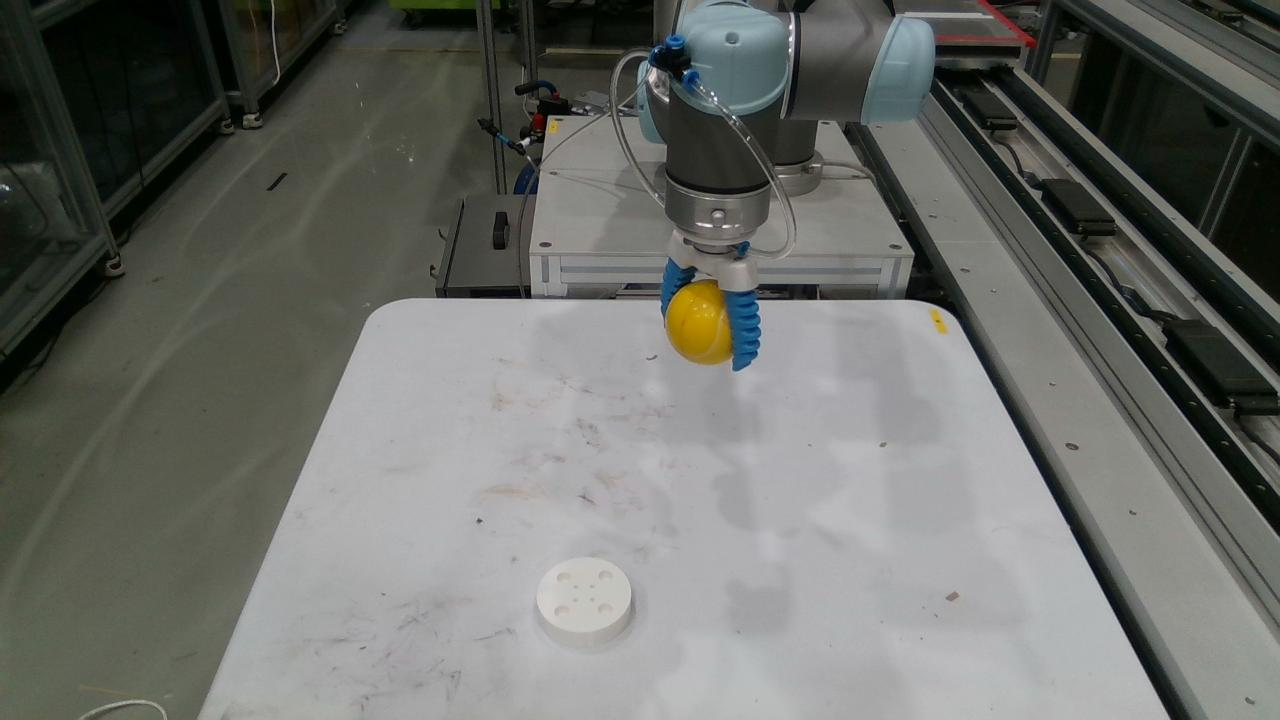UR5: (638, 0, 930, 290)
gripper_left: (661, 259, 696, 317)
gripper_right: (724, 290, 760, 371)
target: (538, 560, 630, 634), (667, 281, 732, 364)
